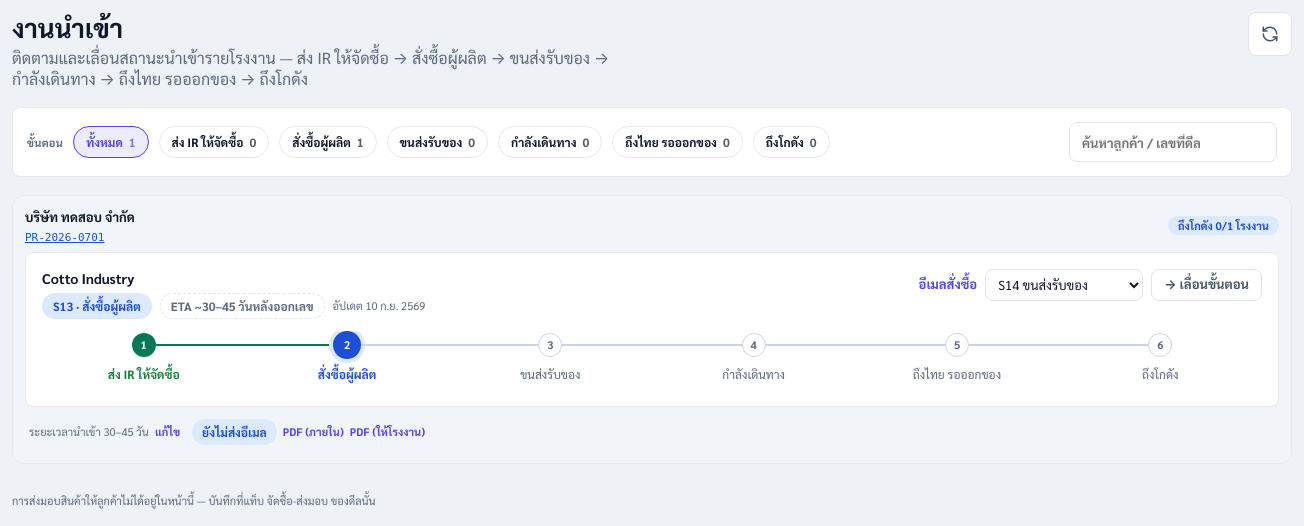
Test: ImportFulfilmentPage (per-factory, stored aggregate) › filtering to a step hides deals that have no factory at that step
Expected: the element with test id "fulfilment-deal" is shown, x1=12 y1=195 x2=1292 y2=464
Click the button with test id "step-chip-RECEIVED".
click(791, 142)  # box x1=753 y1=126 x2=830 y2=158
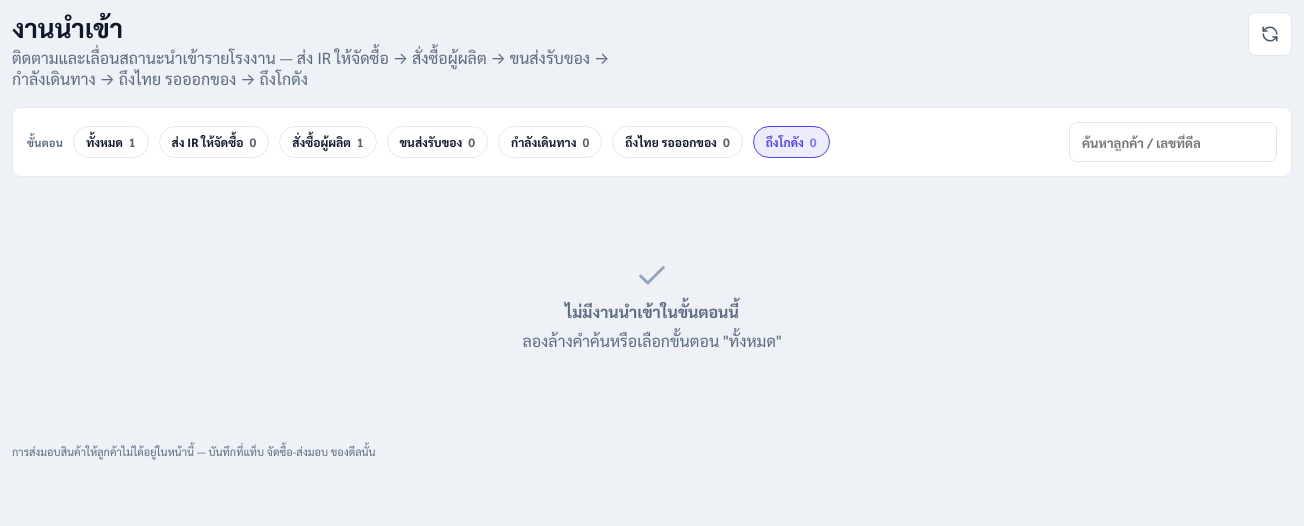
Result: the element with test id "fulfilment-deal" is gone
Click the button with test id "step-chip-ORDERED".
click(328, 142)  # box x1=279 y1=126 x2=376 y2=158
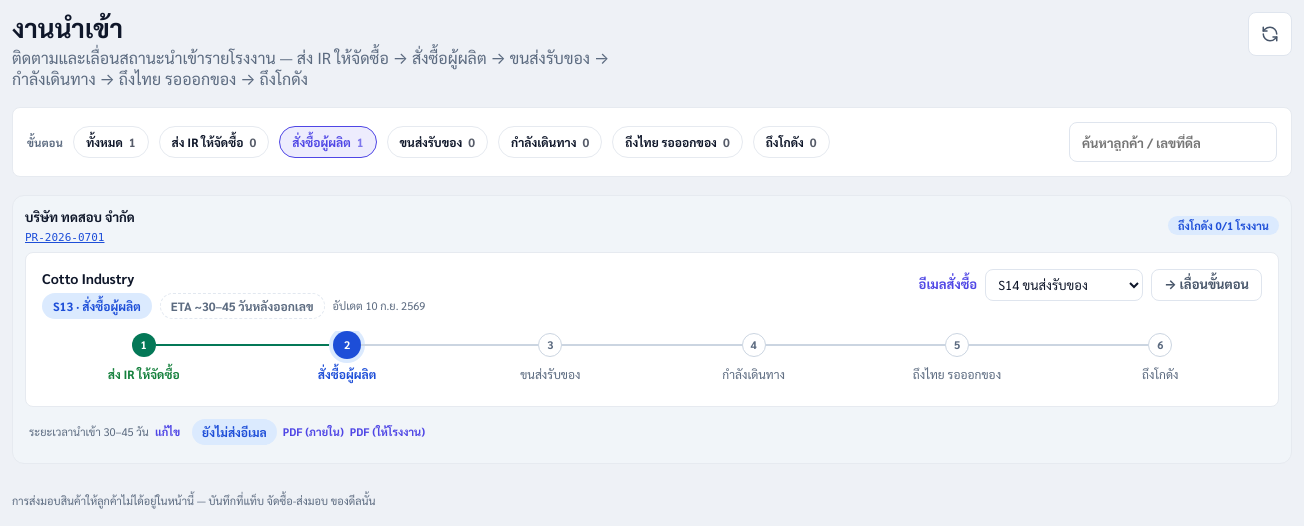
Result: the element with test id "fulfilment-deal" is shown at x1=12 y1=195 x2=1292 y2=464
